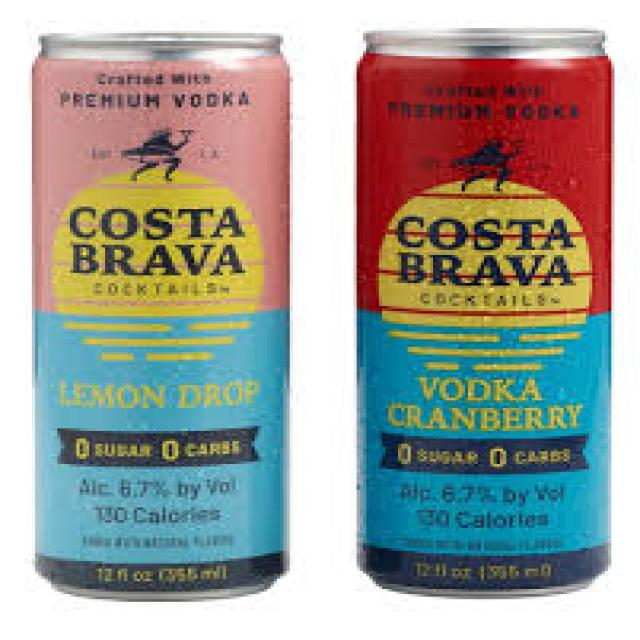Cans: (337, 20, 640, 599), (19, 23, 319, 604)
